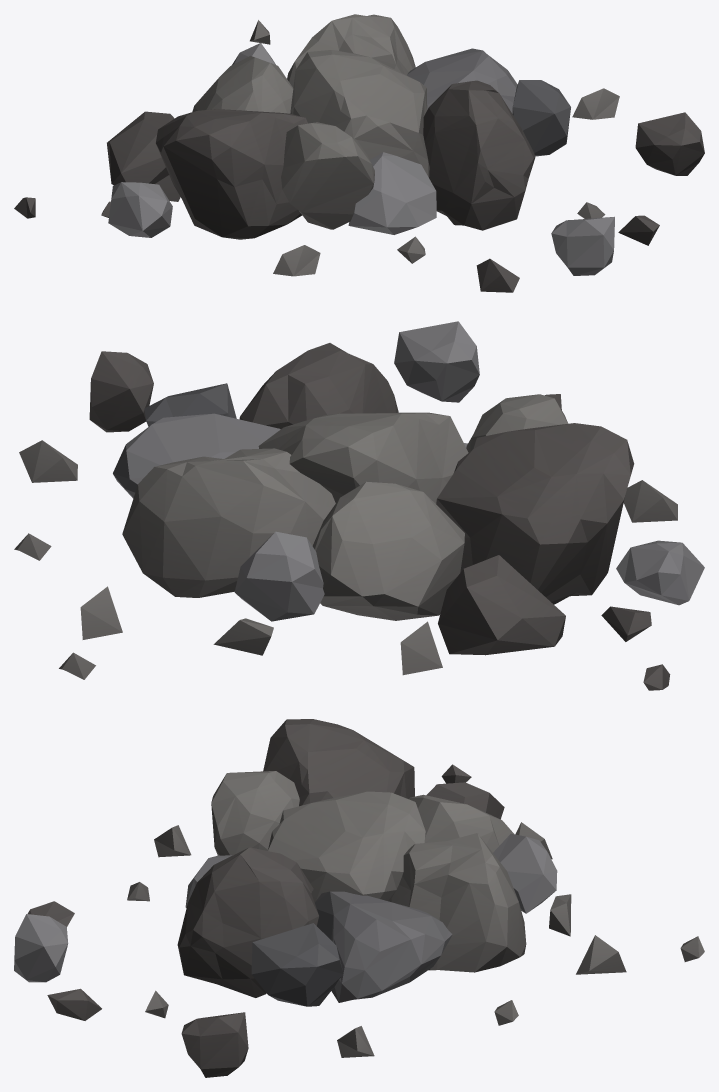
The model's file is ZLPC_Rock_E_4.FBX.
The picture shows the model from 3 angles, top to bottom: view 1: azimuth 30°, elevation 25°; view 2: azimuth 150°, elevation 25°; view 3: azimuth 270°, elevation 25°; orthographic projection. The views are drawn at different scales.
Visible parts, largest first — view 1: ZLPC_Rock_E_4; view 2: ZLPC_Rock_E_4; view 3: ZLPC_Rock_E_4.
Part boxes in pixels (x1,y1,x2,y2): ZLPC_Rock_E_4: (14, 14, 704, 292); ZLPC_Rock_E_4: (14, 321, 704, 690); ZLPC_Rock_E_4: (14, 719, 704, 1077).
Size of the model in its own units: 427 by 91.45 by 425.
1 material, 1 textured.
